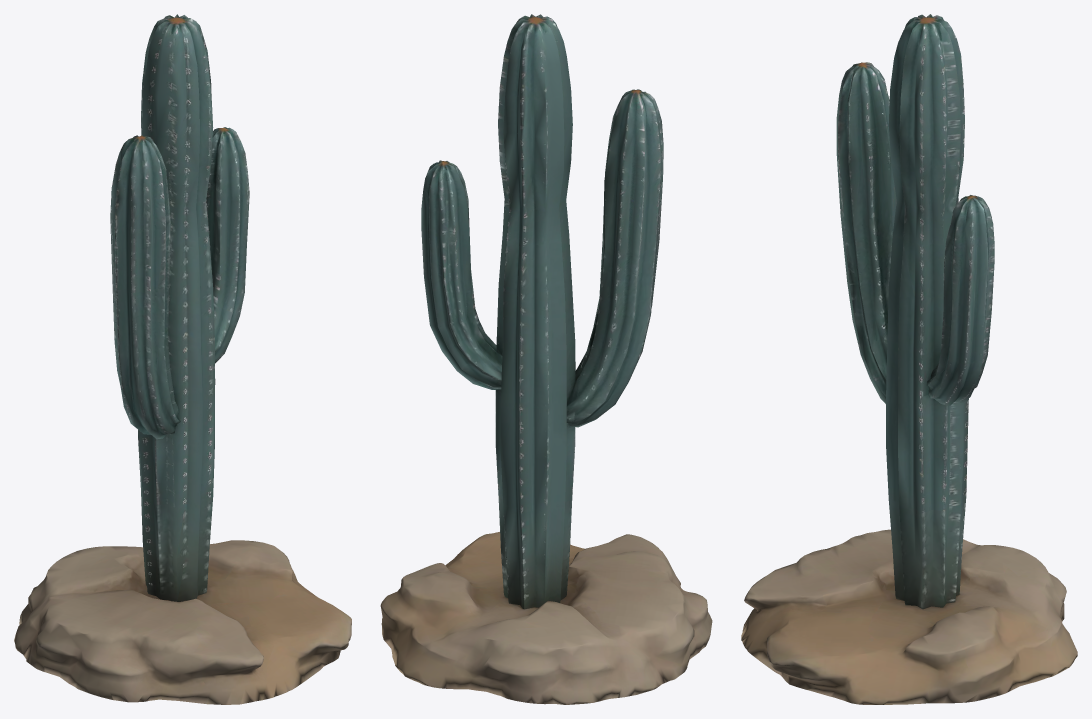
Rendered from sertao_mandacaru.glb.
3 views of the same model, side by side, from view 1: azimuth 30°, elevation 25°; view 2: azimuth 150°, elevation 25°; view 3: azimuth 270°, elevation 25° (orthographic).
Visible parts, largest first — view 1: Blue-Green Candelabra Cactus; view 2: Blue-Green Candelabra Cactus; view 3: Blue-Green Candelabra Cactus.
Boxes of the visible parts, left/top/right/bottom form: Blue-Green Candelabra Cactus: left=14, top=14, right=351, bottom=704; Blue-Green Candelabra Cactus: left=380, top=14, right=712, bottom=704; Blue-Green Candelabra Cactus: left=741, top=14, right=1077, bottom=704.
Bounding box in the file's own units: 0.4746 × 0.998 × 0.4902.
Materials: 1 (1 with a texture image).
